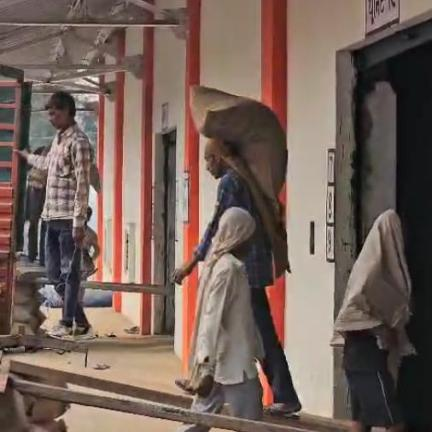Zone-Counting: (174, 86, 301, 415)
